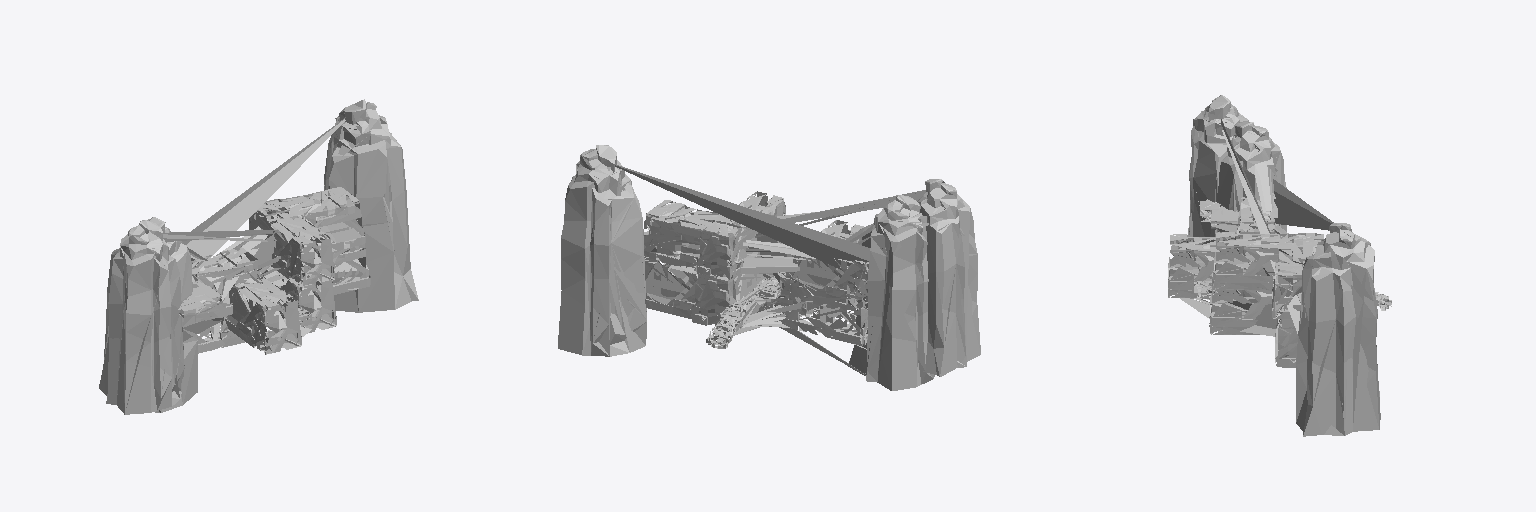
The model's file is cellSlimulation_DigiBridge2_Proxy-sharedassets3.assets-683.obj.
3 renders of one model, left to right at view 1: azimuth 30°, elevation 25°; view 2: azimuth 150°, elevation 25°; view 3: azimuth 270°, elevation 25°, orthographic.
Parts seen in each view (by area): view 1: cellSlimulation_DigiBridge2_Proxy_0, cellSlimulation_DigiBridge2_Proxy_1; view 2: cellSlimulation_DigiBridge2_Proxy_0, cellSlimulation_DigiBridge2_Proxy_1; view 3: cellSlimulation_DigiBridge2_Proxy_0, cellSlimulation_DigiBridge2_Proxy_1.
Part boxes in pixels (left/top/right/bottom): cellSlimulation_DigiBridge2_Proxy_0: left=104, top=103, right=408, bottom=414; cellSlimulation_DigiBridge2_Proxy_1: left=99, top=99, right=418, bottom=414; cellSlimulation_DigiBridge2_Proxy_0: left=574, top=145, right=980, bottom=383; cellSlimulation_DigiBridge2_Proxy_1: left=558, top=145, right=980, bottom=390; cellSlimulation_DigiBridge2_Proxy_0: left=1168, top=98, right=1391, bottom=436; cellSlimulation_DigiBridge2_Proxy_1: left=1189, top=95, right=1380, bottom=435.
Bounding box in the file's own units: 94.25 × 51.61 × 52.57.